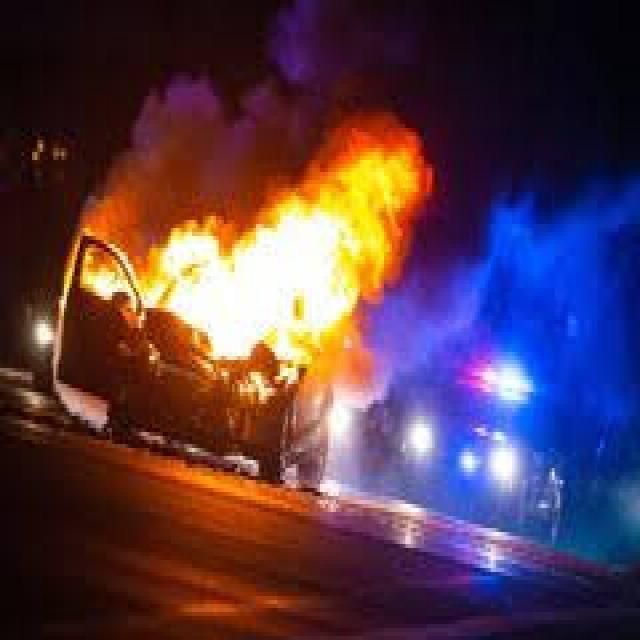Fire: (50, 101, 437, 458)
Smoke: (115, 18, 350, 194)
